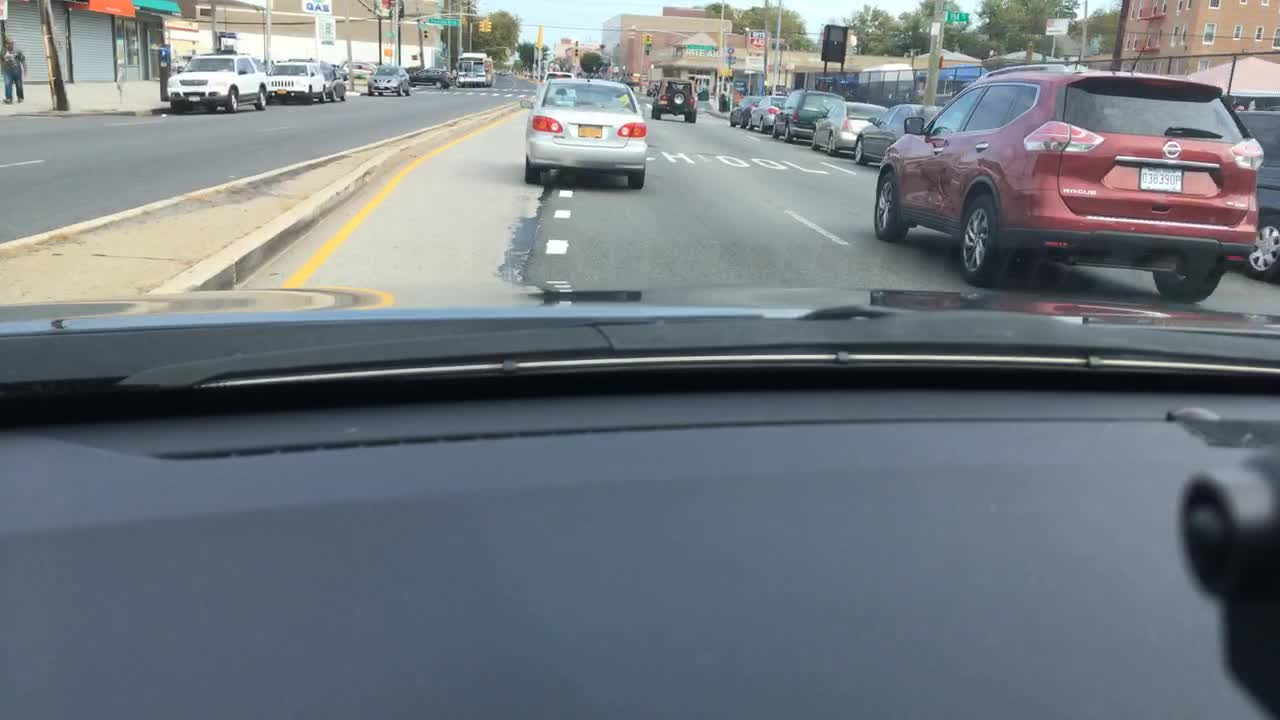bus: (854, 65, 911, 102), (908, 74, 969, 105), (453, 53, 494, 88)
car: (873, 54, 1263, 303), (1180, 38, 1277, 278), (520, 79, 646, 191), (168, 54, 268, 110), (854, 102, 941, 165), (810, 102, 885, 156), (770, 89, 840, 140), (265, 61, 326, 102), (649, 81, 696, 123), (744, 96, 787, 131), (317, 61, 348, 102), (368, 67, 411, 96), (726, 96, 763, 128), (1226, 89, 1277, 112), (404, 67, 453, 89), (341, 61, 378, 82), (827, 79, 859, 100), (168, 53, 189, 75), (814, 75, 836, 95), (539, 70, 572, 82), (693, 88, 712, 103), (569, 67, 586, 81), (646, 81, 660, 95), (492, 65, 504, 79), (520, 67, 534, 79), (590, 68, 604, 79), (499, 68, 513, 79)
person: (1, 37, 27, 105)
traffic light: (534, 25, 544, 51), (625, 25, 639, 40), (717, 68, 733, 79), (572, 37, 577, 68), (640, 33, 649, 49), (382, 46, 392, 60), (476, 18, 485, 33), (647, 33, 656, 47), (422, 28, 427, 46), (644, 32, 649, 46), (488, 19, 490, 35)
traffic sign: (1046, 19, 1070, 35), (425, 16, 460, 26), (747, 28, 765, 46), (946, 11, 971, 23), (681, 44, 716, 51), (747, 53, 763, 68), (380, 32, 397, 39)
